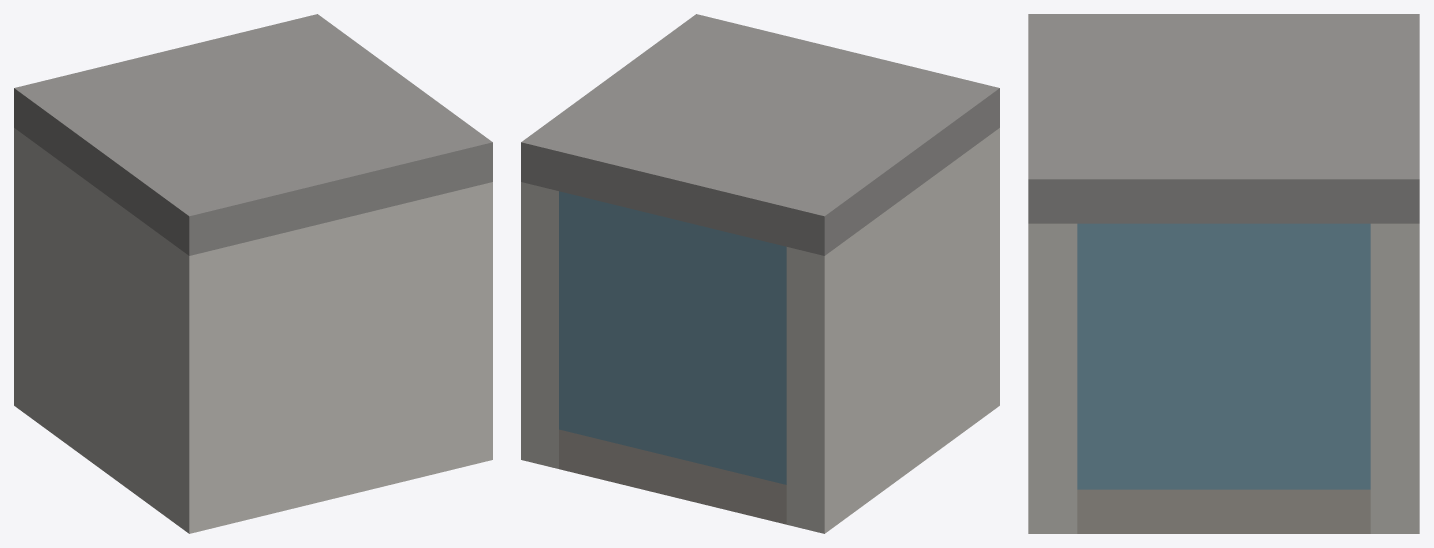
Rendered from flooded-bend.glb.
3 views of the same model, side by side, from view 1: azimuth 30°, elevation 25°; view 2: azimuth 150°, elevation 25°; view 3: azimuth 270°, elevation 25° (orthographic). The views are drawn at different scales.
Visible parts, largest first — view 1: wall_3, ceiling_1, wall_1; view 2: ceiling_1, wall_1, water_1, wall_2, floor_1; view 3: ceiling_1, water_2, wall_2, wall_3, floor_2.
Boxes of the visible parts, x1,y1,x2,y2 form: wall_3: (227, 182, 492, 524); ceiling_1: (14, 14, 492, 255); wall_1: (14, 128, 227, 533); ceiling_1: (521, 14, 999, 255); wall_1: (786, 128, 999, 533); water_1: (559, 191, 786, 484); wall_2: (521, 182, 558, 468); floor_1: (559, 429, 786, 524); ceiling_1: (1028, 14, 1419, 223); water_2: (1077, 223, 1370, 489); wall_2: (1370, 223, 1419, 533); wall_3: (1028, 223, 1077, 533); floor_2: (1077, 489, 1370, 533).
Size of the model in its own units: 4 by 4 by 4.
